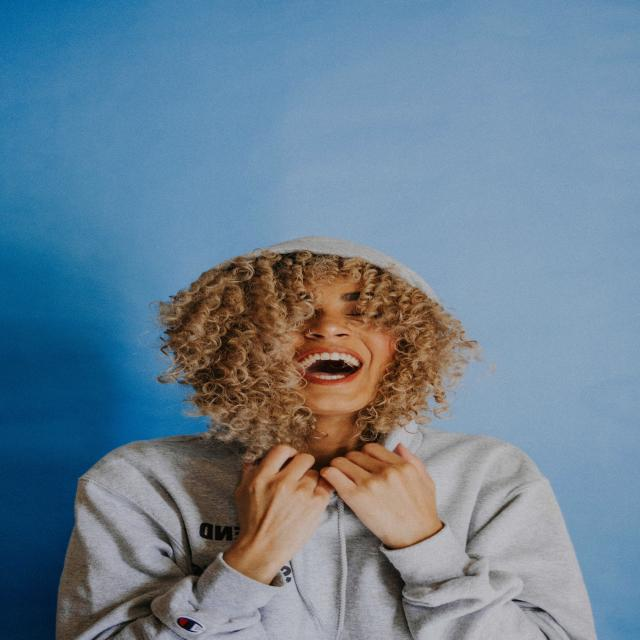adult: (40, 243, 593, 640)
